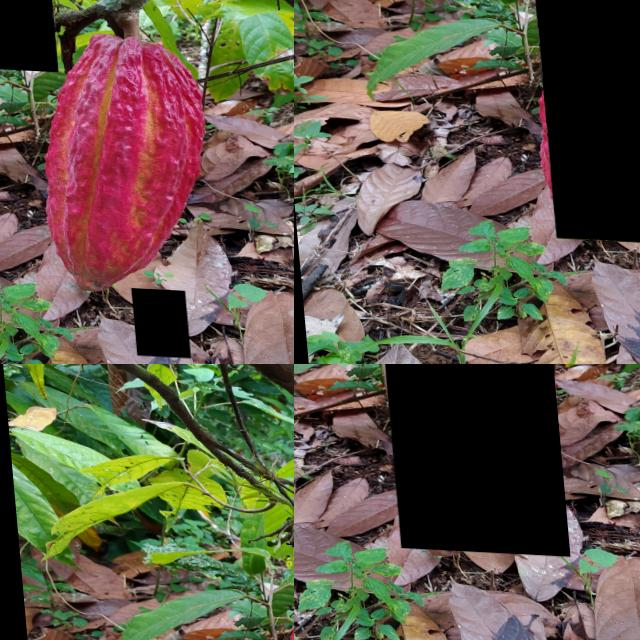Sana: (374, 364, 561, 552), (528, 0, 640, 244), (123, 284, 180, 354), (0, 0, 53, 69)
